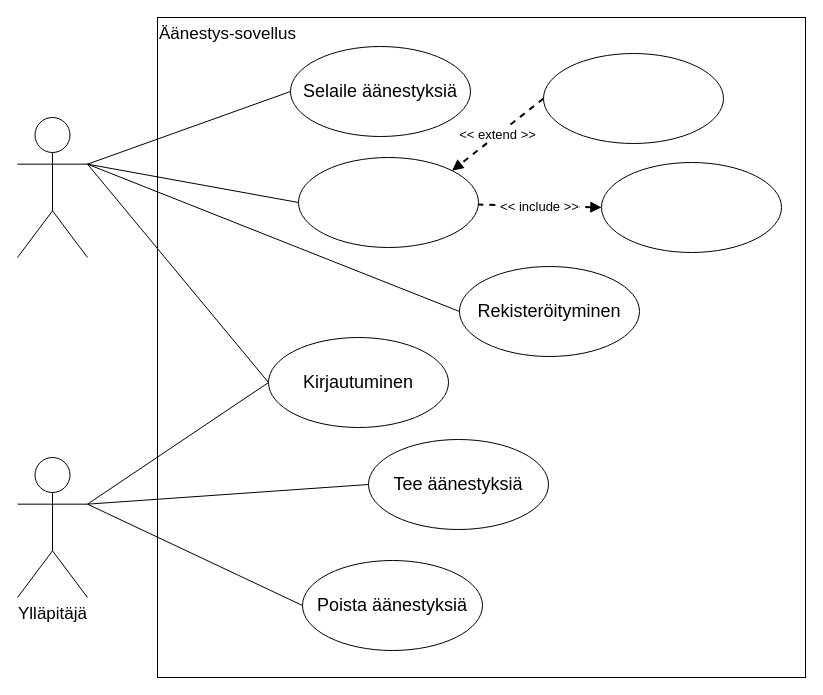
The diagram is 823 pixels wide and 695 high, and some of its shapes have lost their labels. Each missing label, with the centre of its shape:
"Katso äänestystilanne" goes at pixel 691 207.
"Käyttäjä" goes at pixel 52 187.
"Valitse äänestys" goes at pixel 388 202.
"Äänestä äänestyksessä" goes at pixel 633 98.
